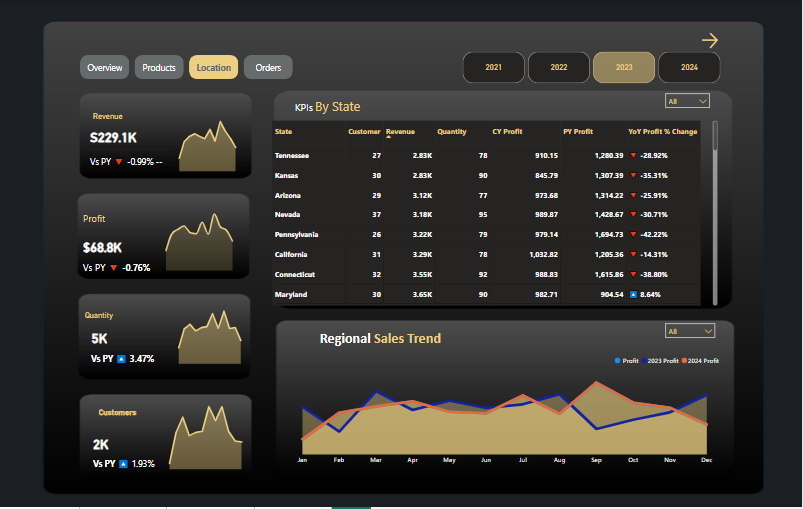

What the dashboard file says about the page in this screenshot:
{"tool":"powerbi","page":{"name":"Location","canvas":[1500,950],"ordinal":2},"visuals":[{"type":"group","id":"g1","title":"Group 2","box":[138.3,375,344.1,138.6],"z":0,"group":"g4"},{"type":"lineChart","title":"Regional Sales Trend","fields":{"Category":["Calendar.Month Short"],"Y":["Sum(Wears.Profit)","Wears.2023 Profit","Wears.2024 Profit"]},"box":[532.1,655.7,821.2,224.2],"z":0},{"type":"group","id":"g2","title":"Group 4","box":[150.9,205.3,333.1,121.5],"z":1000,"group":"g4"},{"type":"tableEx","fields":{"Values":["Wears.State","Wears.Customer ID","Sum(Wears.Revenue)","Sum(Wears.Quantity)","Wears.CY Profit","Wears.PY Profit","Wears.YoY Profit % Change"]},"box":[502.8,222.1,844.3,356.1],"z":1000},{"type":"cardVisual","fields":{"Data":["Wears.TotalProfit"]},"box":[138.3,379.8,162.3,133.8],"z":1000,"group":"g6"},{"type":"group","id":"g3","title":"Group 1","box":[153,540.5,343.6,163.4],"z":2000,"group":"g4"},{"type":"textbox","box":[592.9,613.8,352,41.9],"z":2000},{"type":"group","id":"g4","title":"Group 6","box":[138.3,205.3,358.2,498.6],"z":3000},{"type":"cardVisual","fields":{"Data":["Sum(Wears.Revenue)"]},"box":[150.9,222.1,180.2,104.7],"z":3000,"group":"g2"},{"type":"areaChart","fields":{"Y":["Sum(Wears.Revenue)"],"Category":["Calendar.Month No"]},"box":[310.1,205.3,173.9,121.5],"z":4000,"group":"g2"},{"type":"group","id":"g5","title":"Group 3","box":[157.1,743.7,345.7,171.8],"z":4000},{"type":"cardVisual","fields":{"Data":["Wears.TotalCustomers"]},"box":[157.1,773,169.7,142.5],"z":4000,"group":"g5"},{"type":"advancedSlicerVisual","fields":{"Values":["Calendar.Year"]},"box":[861,94.3,492.3,69.1],"z":5000},{"type":"cardVisual","fields":{"Data":["Wears.TotalQuantity"]},"box":[153,590.8,173.9,113.1],"z":5000,"group":"g3"},{"type":"textbox","box":[546.8,178.1,188.5,44],"z":6000},{"type":"textbox","box":[153,578.2,136.2,35.6],"z":6000,"group":"g3"},{"type":"areaChart","fields":{"Category":["Calendar.Month No"],"Y":["Wears.TotalCustomers"]},"box":[289.1,743.7,213.7,140.4],"z":6000,"group":"g5"},{"type":"actionButton","box":[1307.3,58.7,100.6,39.8],"z":7000},{"type":"textbox","box":[167.7,205.3,163.4,35.6],"z":7000,"group":"g2"},{"type":"stackedAreaChart","fields":{"Category":["Calendar.Month No"],"Y":["Wears.TotalProfit"]},"box":[283.3,375,199.2,137.2],"z":7000,"group":"g6"},{"type":"pageNavigator","box":[148.7,104.7,398,48.2],"z":8000},{"type":"slicer","fields":{"Values":["Wears.Region"]},"box":[1233.9,165.5,102.7,39.8],"z":9000},{"type":"areaChart","fields":{"Y":["Sum(Wears.Quantity)"],"Category":["Calendar.Month No"]},"box":[308,540.5,188.5,146.6],"z":9000,"group":"g3"},{"type":"slicer","fields":{"Values":["Wears.Region"]},"box":[1233.9,597.1,113.1,37.7],"z":10000},{"type":"textbox","box":[180.1,758.4,90.1,35.6],"z":10000,"group":"g5"},{"type":"group","id":"g6","title":"Group 5","box":[138.3,375,344.1,138.6],"z":10002,"group":"g1"}]}

Visuals, with their boxes in screenshot pixels (x1, y1, x2, y2), scaled from the page's 1500x950 canvas onto the 803x509 screenshot:
"Group 2" group: 74, 201, 258, 275
"Regional Sales Trend" lineChart: 285, 351, 724, 471
"Group 4" group: 81, 110, 259, 175
tableEx - Wears.State x Wears.Customer ID: 269, 119, 721, 310
cardVisual - Wears.TotalProfit: 74, 203, 161, 275
"Group 1" group: 82, 290, 266, 377
textbox: 317, 329, 506, 351
"Group 6" group: 74, 110, 266, 377
cardVisual - Sum(Wears.Revenue): 81, 119, 177, 175
areaChart - Sum(Wears.Revenue) x Calendar.Month No: 166, 110, 259, 175
"Group 3" group: 84, 398, 269, 491
cardVisual - Wears.TotalCustomers: 84, 414, 175, 491
advancedSlicerVisual - Calendar.Year: 461, 51, 724, 88
cardVisual - Wears.TotalQuantity: 82, 317, 175, 377
textbox: 293, 95, 394, 119
textbox: 82, 310, 155, 329
areaChart - Calendar.Month No x Wears.TotalCustomers: 155, 398, 269, 474
actionButton: 700, 31, 754, 53
textbox: 90, 110, 177, 129
stackedAreaChart - Calendar.Month No x Wears.TotalProfit: 152, 201, 258, 274
pageNavigator: 80, 56, 293, 82
slicer - Wears.Region: 661, 89, 716, 110
areaChart - Sum(Wears.Quantity) x Calendar.Month No: 165, 290, 266, 368
slicer - Wears.Region: 661, 320, 721, 340
textbox: 96, 406, 145, 425
"Group 5" group: 74, 201, 258, 275
